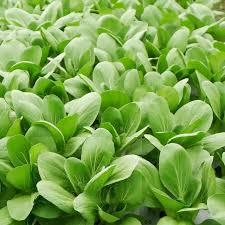Healthy-Pechay: (0, 3, 224, 223), (36, 180, 78, 216), (31, 120, 66, 156), (6, 134, 32, 168), (9, 61, 44, 84), (187, 59, 212, 82)
